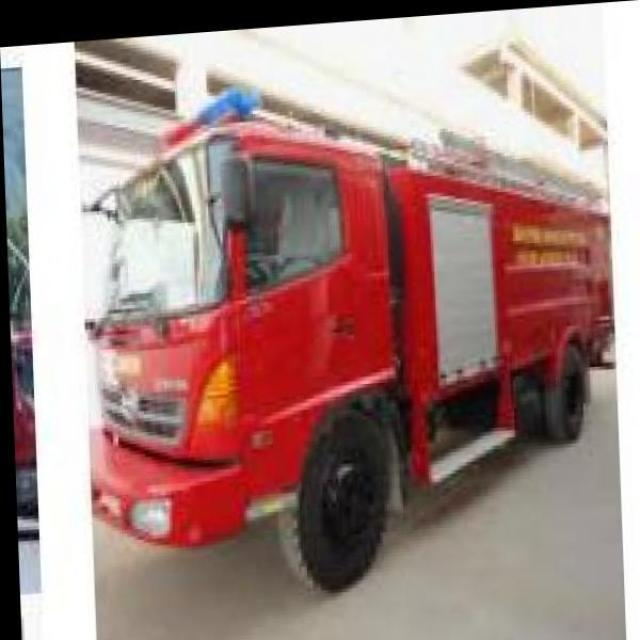emergency: (80, 83, 612, 592)
